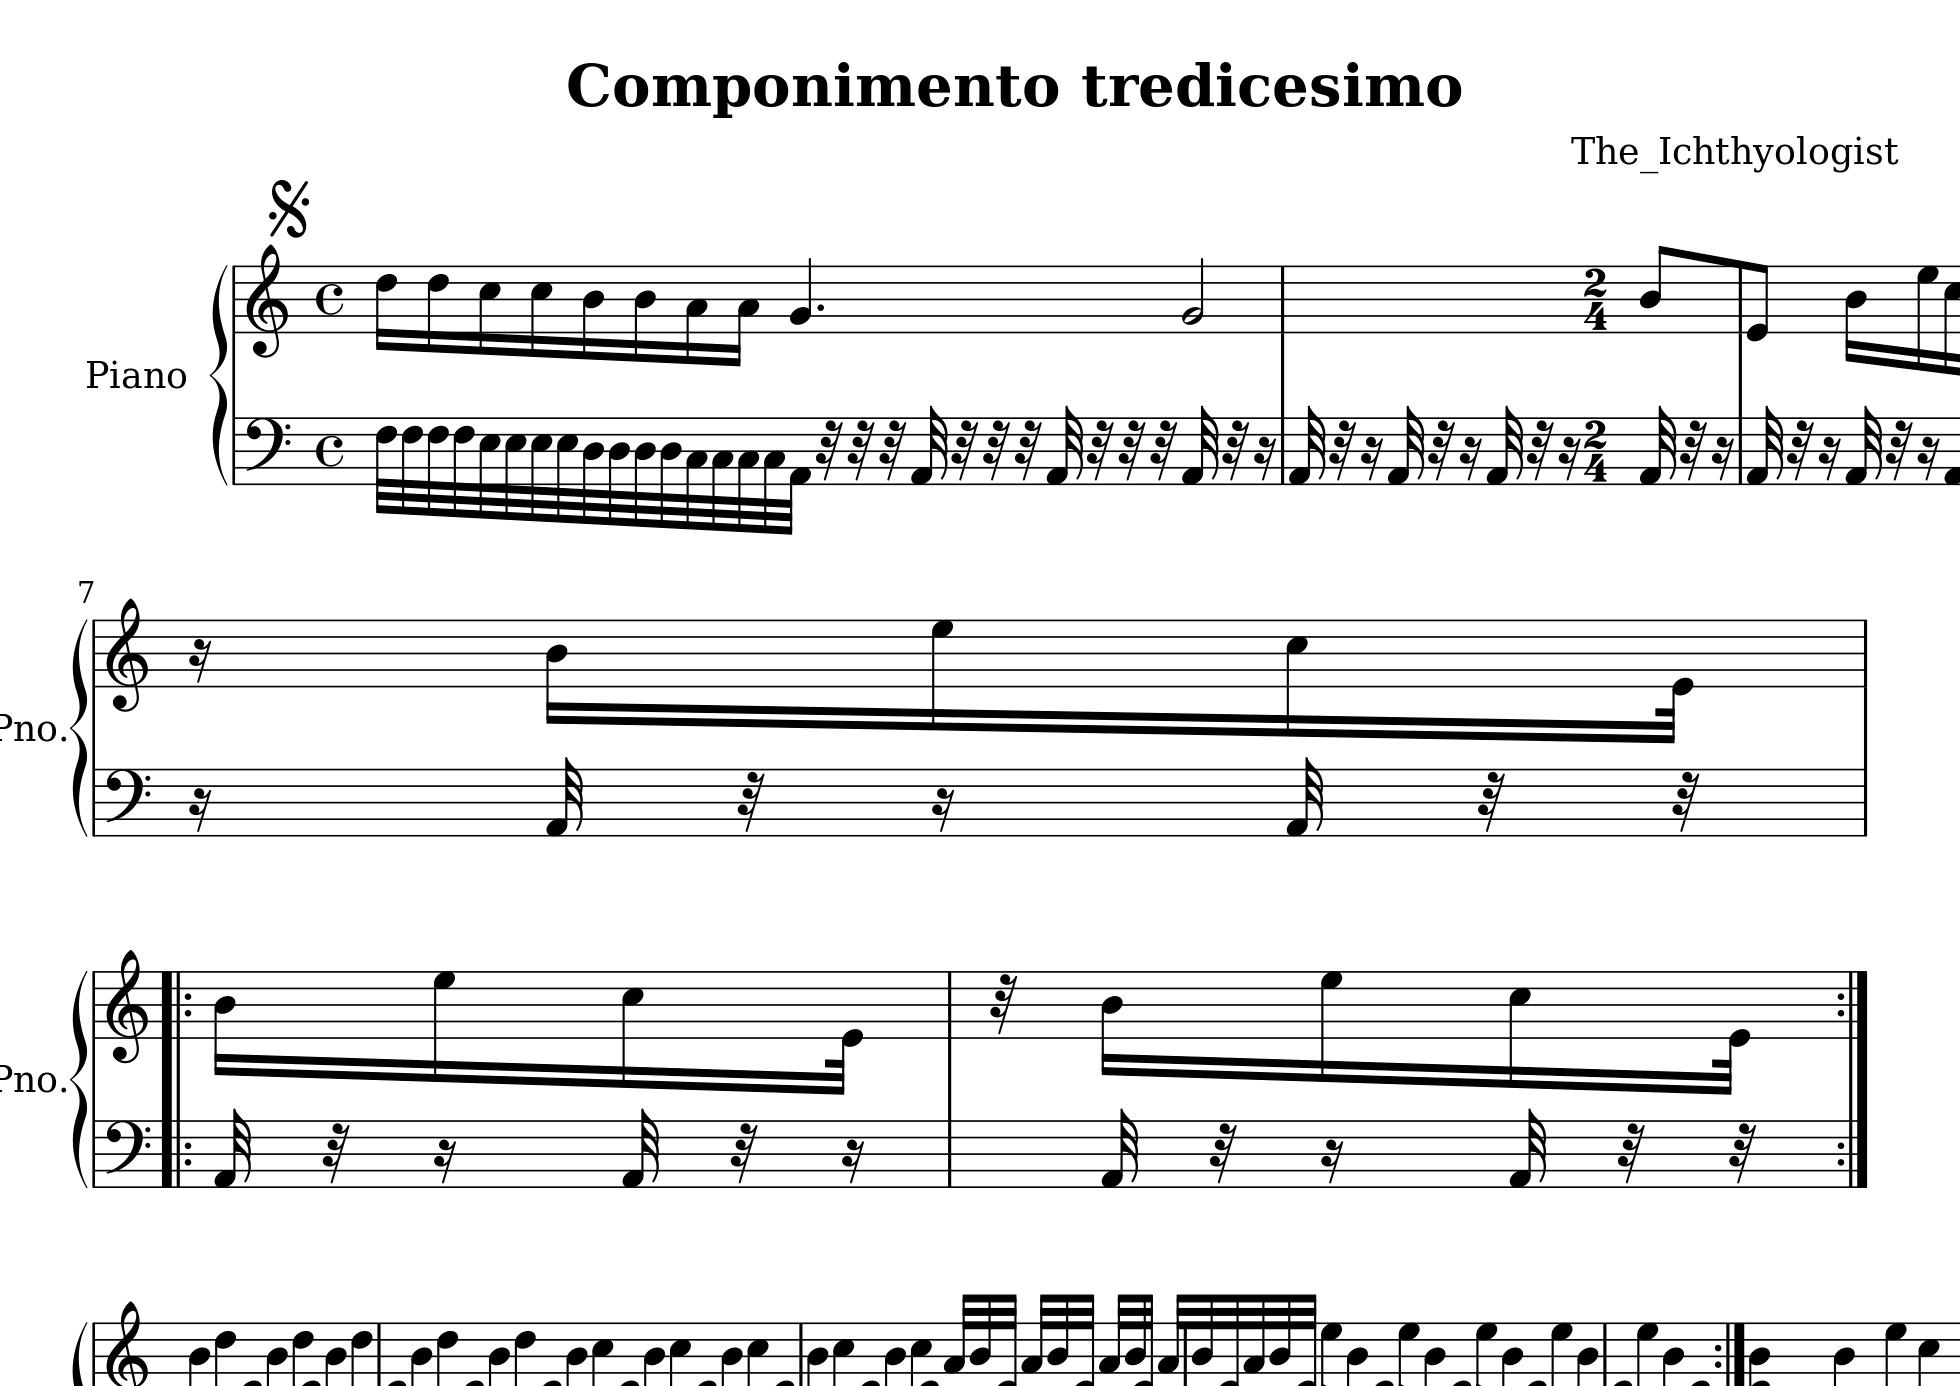16_3: (729, 262, 760, 369), (684, 262, 709, 367)
16_4: (213, 967, 238, 1077), (1099, 969, 1125, 1078), (631, 262, 658, 364), (580, 262, 607, 363), (544, 616, 568, 727), (1843, 262, 1869, 364)
16_5: (619, 967, 645, 1090), (1507, 967, 1533, 1090), (1285, 615, 1309, 736), (477, 262, 502, 357), (529, 262, 553, 358), (1941, 268, 1960, 373)
16_6: (424, 262, 450, 355), (373, 262, 397, 352)
16_7: (430, 967, 457, 1084), (1317, 967, 1344, 1084), (928, 616, 955, 730), (1914, 262, 1939, 373)
2: (1582, 415, 1611, 450), (1582, 265, 1611, 298)
2_2: (1180, 255, 1207, 334)
32_0: (825, 969, 864, 1096), (1713, 967, 1752, 1095), (1657, 615, 1695, 742)
32_1: (1284, 756, 1326, 838), (211, 1107, 253, 1189), (544, 754, 585, 840), (1099, 1107, 1140, 1191), (1507, 1107, 1548, 1189), (619, 1108, 660, 1189), (1638, 403, 1677, 486), (1845, 403, 1884, 486), (1288, 403, 1327, 484), (1746, 405, 1785, 486), (910, 403, 948, 486), (1047, 403, 1084, 486), (1182, 403, 1219, 486), (1486, 403, 1524, 486), (1389, 403, 1425, 486)
32_3: (784, 414, 813, 537), (736, 414, 760, 535), (762, 414, 786, 535), (711, 415, 733, 532), (685, 415, 708, 531)
32_4: (658, 414, 682, 529), (633, 415, 657, 529), (580, 414, 604, 526), (607, 415, 631, 528)
32_5: (529, 414, 553, 523), (556, 414, 579, 523), (504, 415, 526, 522), (478, 415, 501, 520)
32_6: (451, 415, 475, 519), (400, 415, 424, 517), (373, 415, 397, 516), (427, 415, 450, 517)
4: (1581, 298, 1611, 331), (1582, 448, 1611, 483)
4_2: (789, 255, 814, 334)
7: (76, 574, 96, 606)
8_0: (1746, 259, 1770, 342)
8_4: (1638, 244, 1671, 334)
Brace: (208, 261, 229, 487), (69, 613, 90, 837), (69, 967, 90, 1189)
Fclef: (241, 414, 292, 484), (100, 1117, 151, 1188), (102, 766, 151, 835)
Gclef: (103, 946, 150, 1066), (103, 595, 150, 712), (244, 241, 289, 358)
LeftRepeatSign: (157, 969, 195, 1038), (157, 1119, 193, 1188)
Pno: (82, 357, 190, 390), (1, 711, 57, 744), (1, 1062, 57, 1095)
Rests16: (187, 784, 213, 832), (930, 786, 955, 832), (432, 1137, 457, 1183), (840, 1137, 865, 1183), (1917, 433, 1941, 481), (1320, 1137, 1344, 1185), (187, 637, 213, 682), (1557, 435, 1581, 481), (1710, 435, 1734, 481), (1818, 435, 1842, 481), (1459, 433, 1482, 481), (1254, 435, 1276, 481), (1360, 435, 1383, 481)
Rests32: (1476, 769, 1506, 834), (1728, 1120, 1756, 1186), (1680, 417, 1708, 481), (736, 769, 765, 834), (1671, 769, 1699, 834), (321, 1120, 349, 1185), (729, 1120, 757, 1185), (1209, 1120, 1237, 1185), (1617, 1120, 1645, 1185), (814, 418, 843, 481), (877, 418, 906, 481), (1149, 418, 1177, 481), (951, 418, 978, 483), (1222, 417, 1249, 481), (1329, 417, 1356, 481), (1428, 417, 1455, 481), (1527, 417, 1554, 481), (1788, 418, 1815, 483), (1887, 417, 1914, 481), (847, 418, 874, 481), (982, 418, 1009, 481), (1014, 418, 1041, 481), (1087, 418, 1114, 481), (1119, 418, 1146, 481), (990, 973, 1017, 1036)
RightRepeatSign: (1833, 1119, 1872, 1188), (1834, 969, 1872, 1036), (1713, 1321, 1749, 1384)
Segno: (265, 172, 313, 241)
Single_barline: (940, 970, 958, 1036), (940, 1120, 958, 1186), (1275, 265, 1291, 331), (1857, 619, 1873, 685), (1857, 769, 1873, 834), (228, 265, 243, 333), (1734, 415, 1749, 483), (1275, 415, 1290, 483), (87, 619, 102, 685), (87, 970, 102, 1036), (1734, 270, 1749, 333), (228, 415, 241, 484), (88, 768, 102, 834), (88, 1120, 102, 1186), (88, 1321, 102, 1378)
TimeSig: (313, 264, 346, 331), (313, 418, 346, 484), (1581, 265, 1611, 331), (1584, 417, 1611, 484)
dot: (814, 300, 826, 313)
